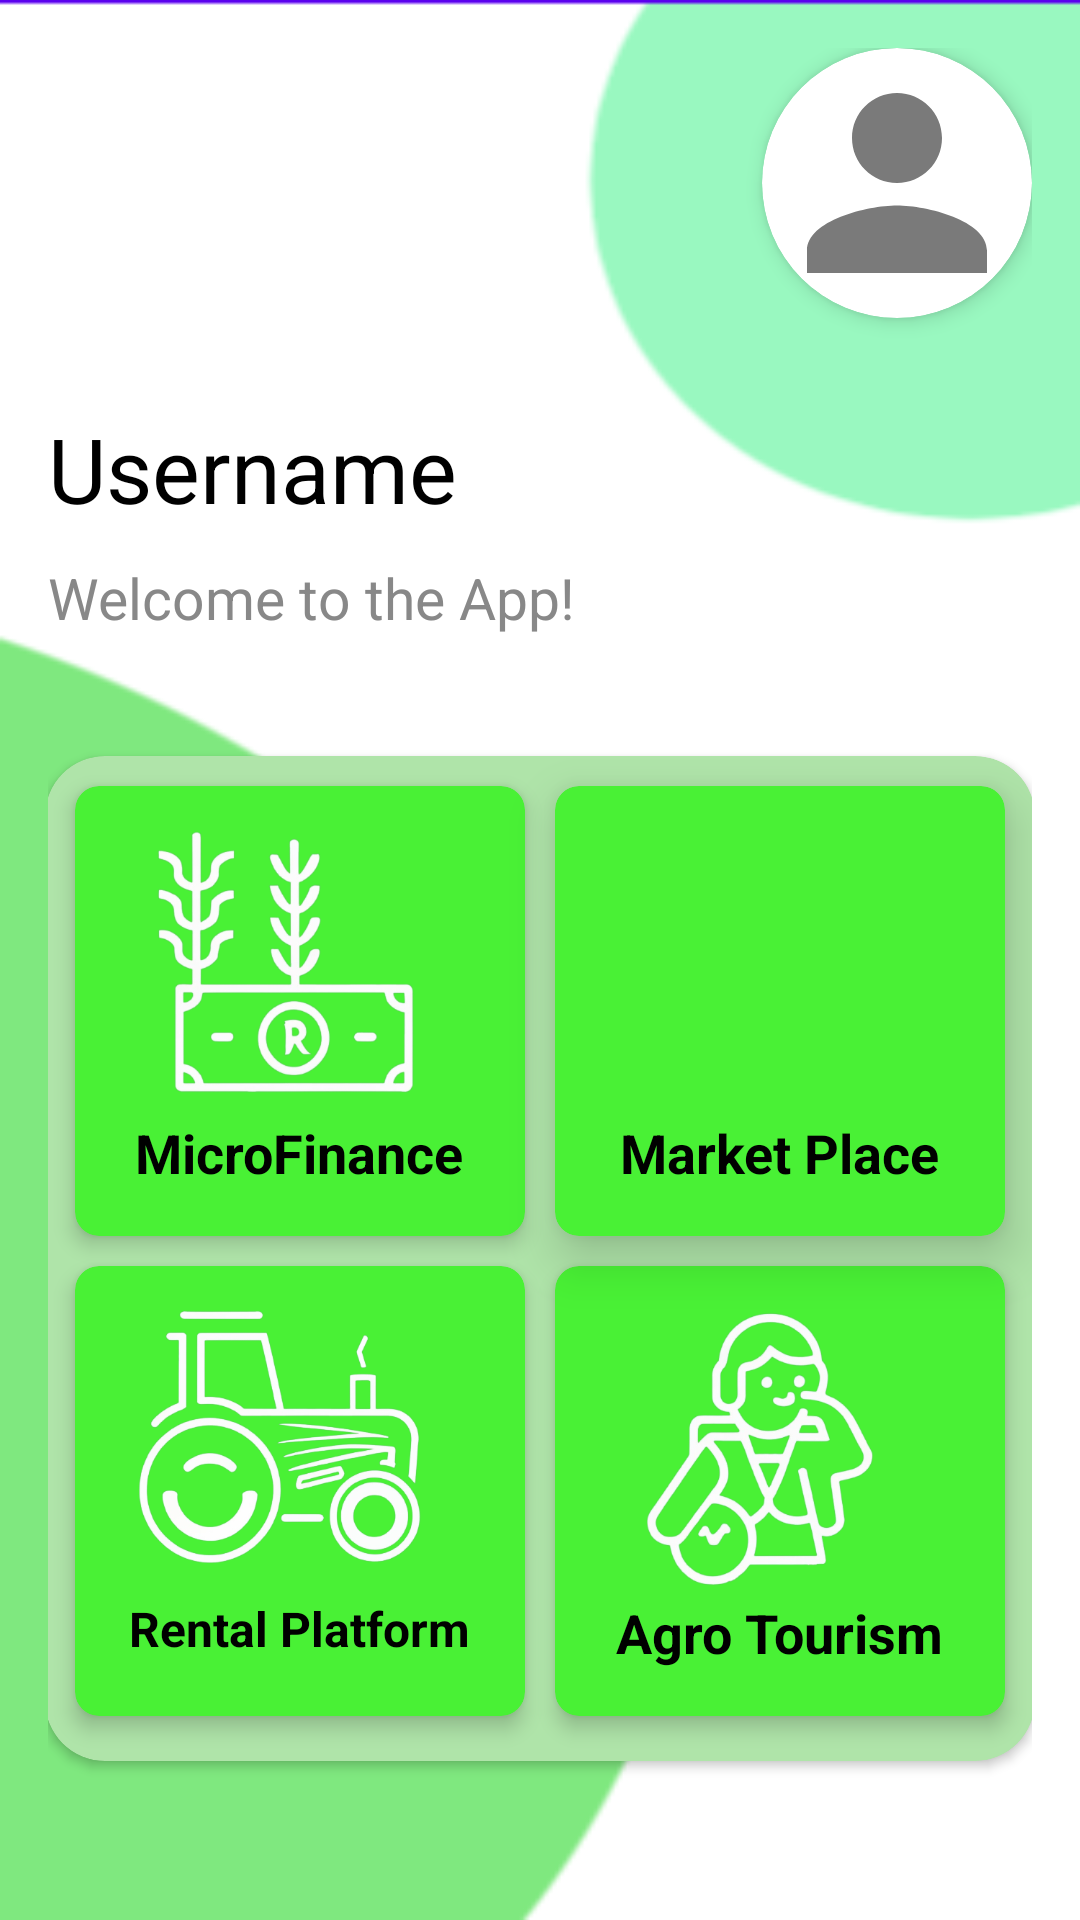

Named icons in this screenshot (1080px x 1920px) and their bounding boxes, (x1, y1, x2, y2):
person: (762, 48, 1032, 318)
